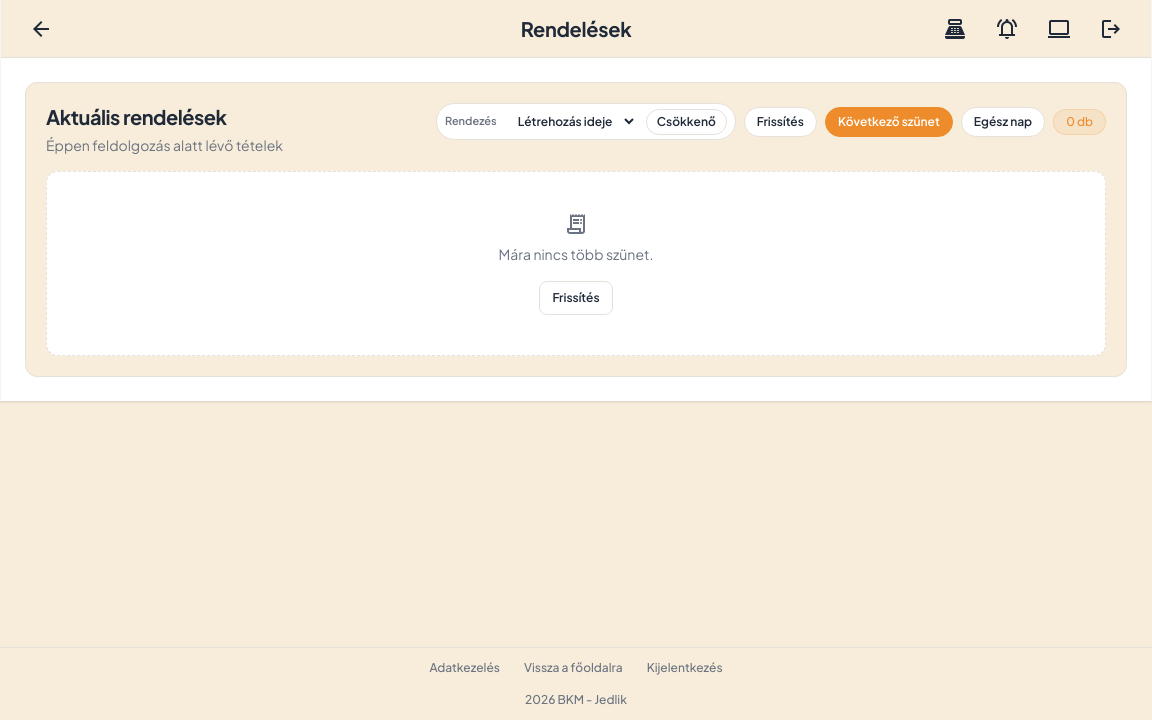
Test: admin orders page › renders active orders list for admin
Check: the heading "Aktuális rendelések" is shown, box top-left (46, 104), bottom-right (226, 129)
Click the button "Egész nap" at (1003, 122), box top-left (961, 107), bottom-right (1045, 137)
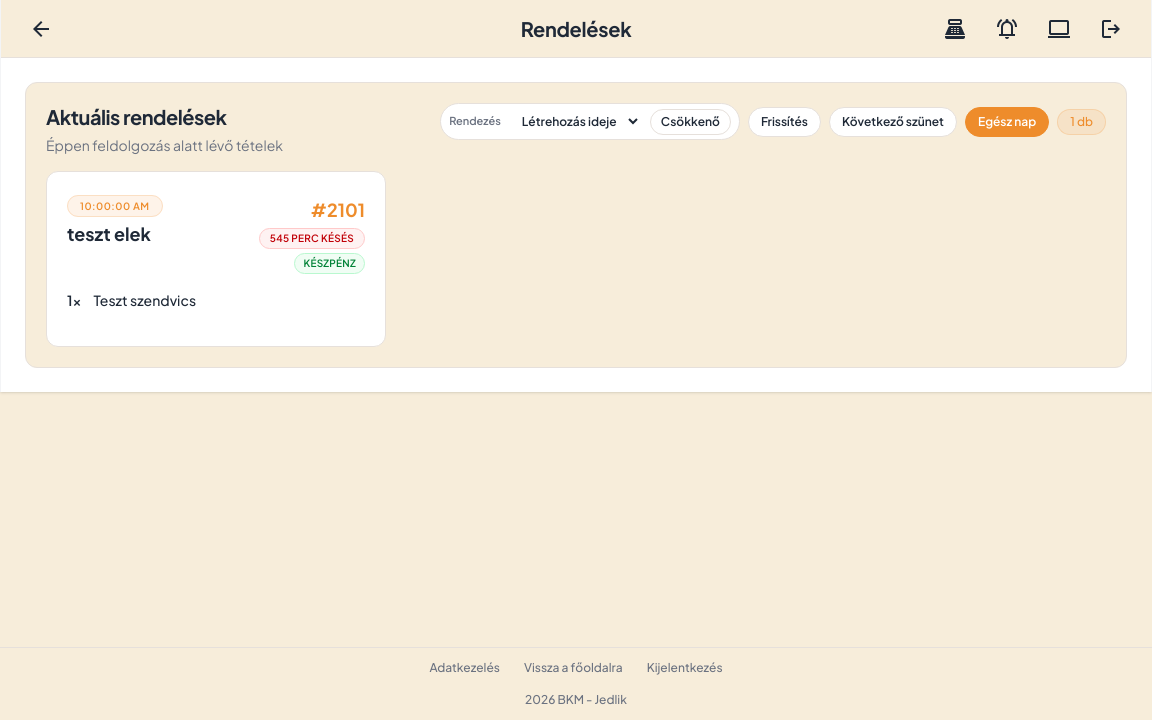
Check: the heading "teszt elek" is shown, box top-left (67, 220), bottom-right (163, 248)
Check: the heading "#2101" is shown, box top-left (310, 196), bottom-right (365, 224)
